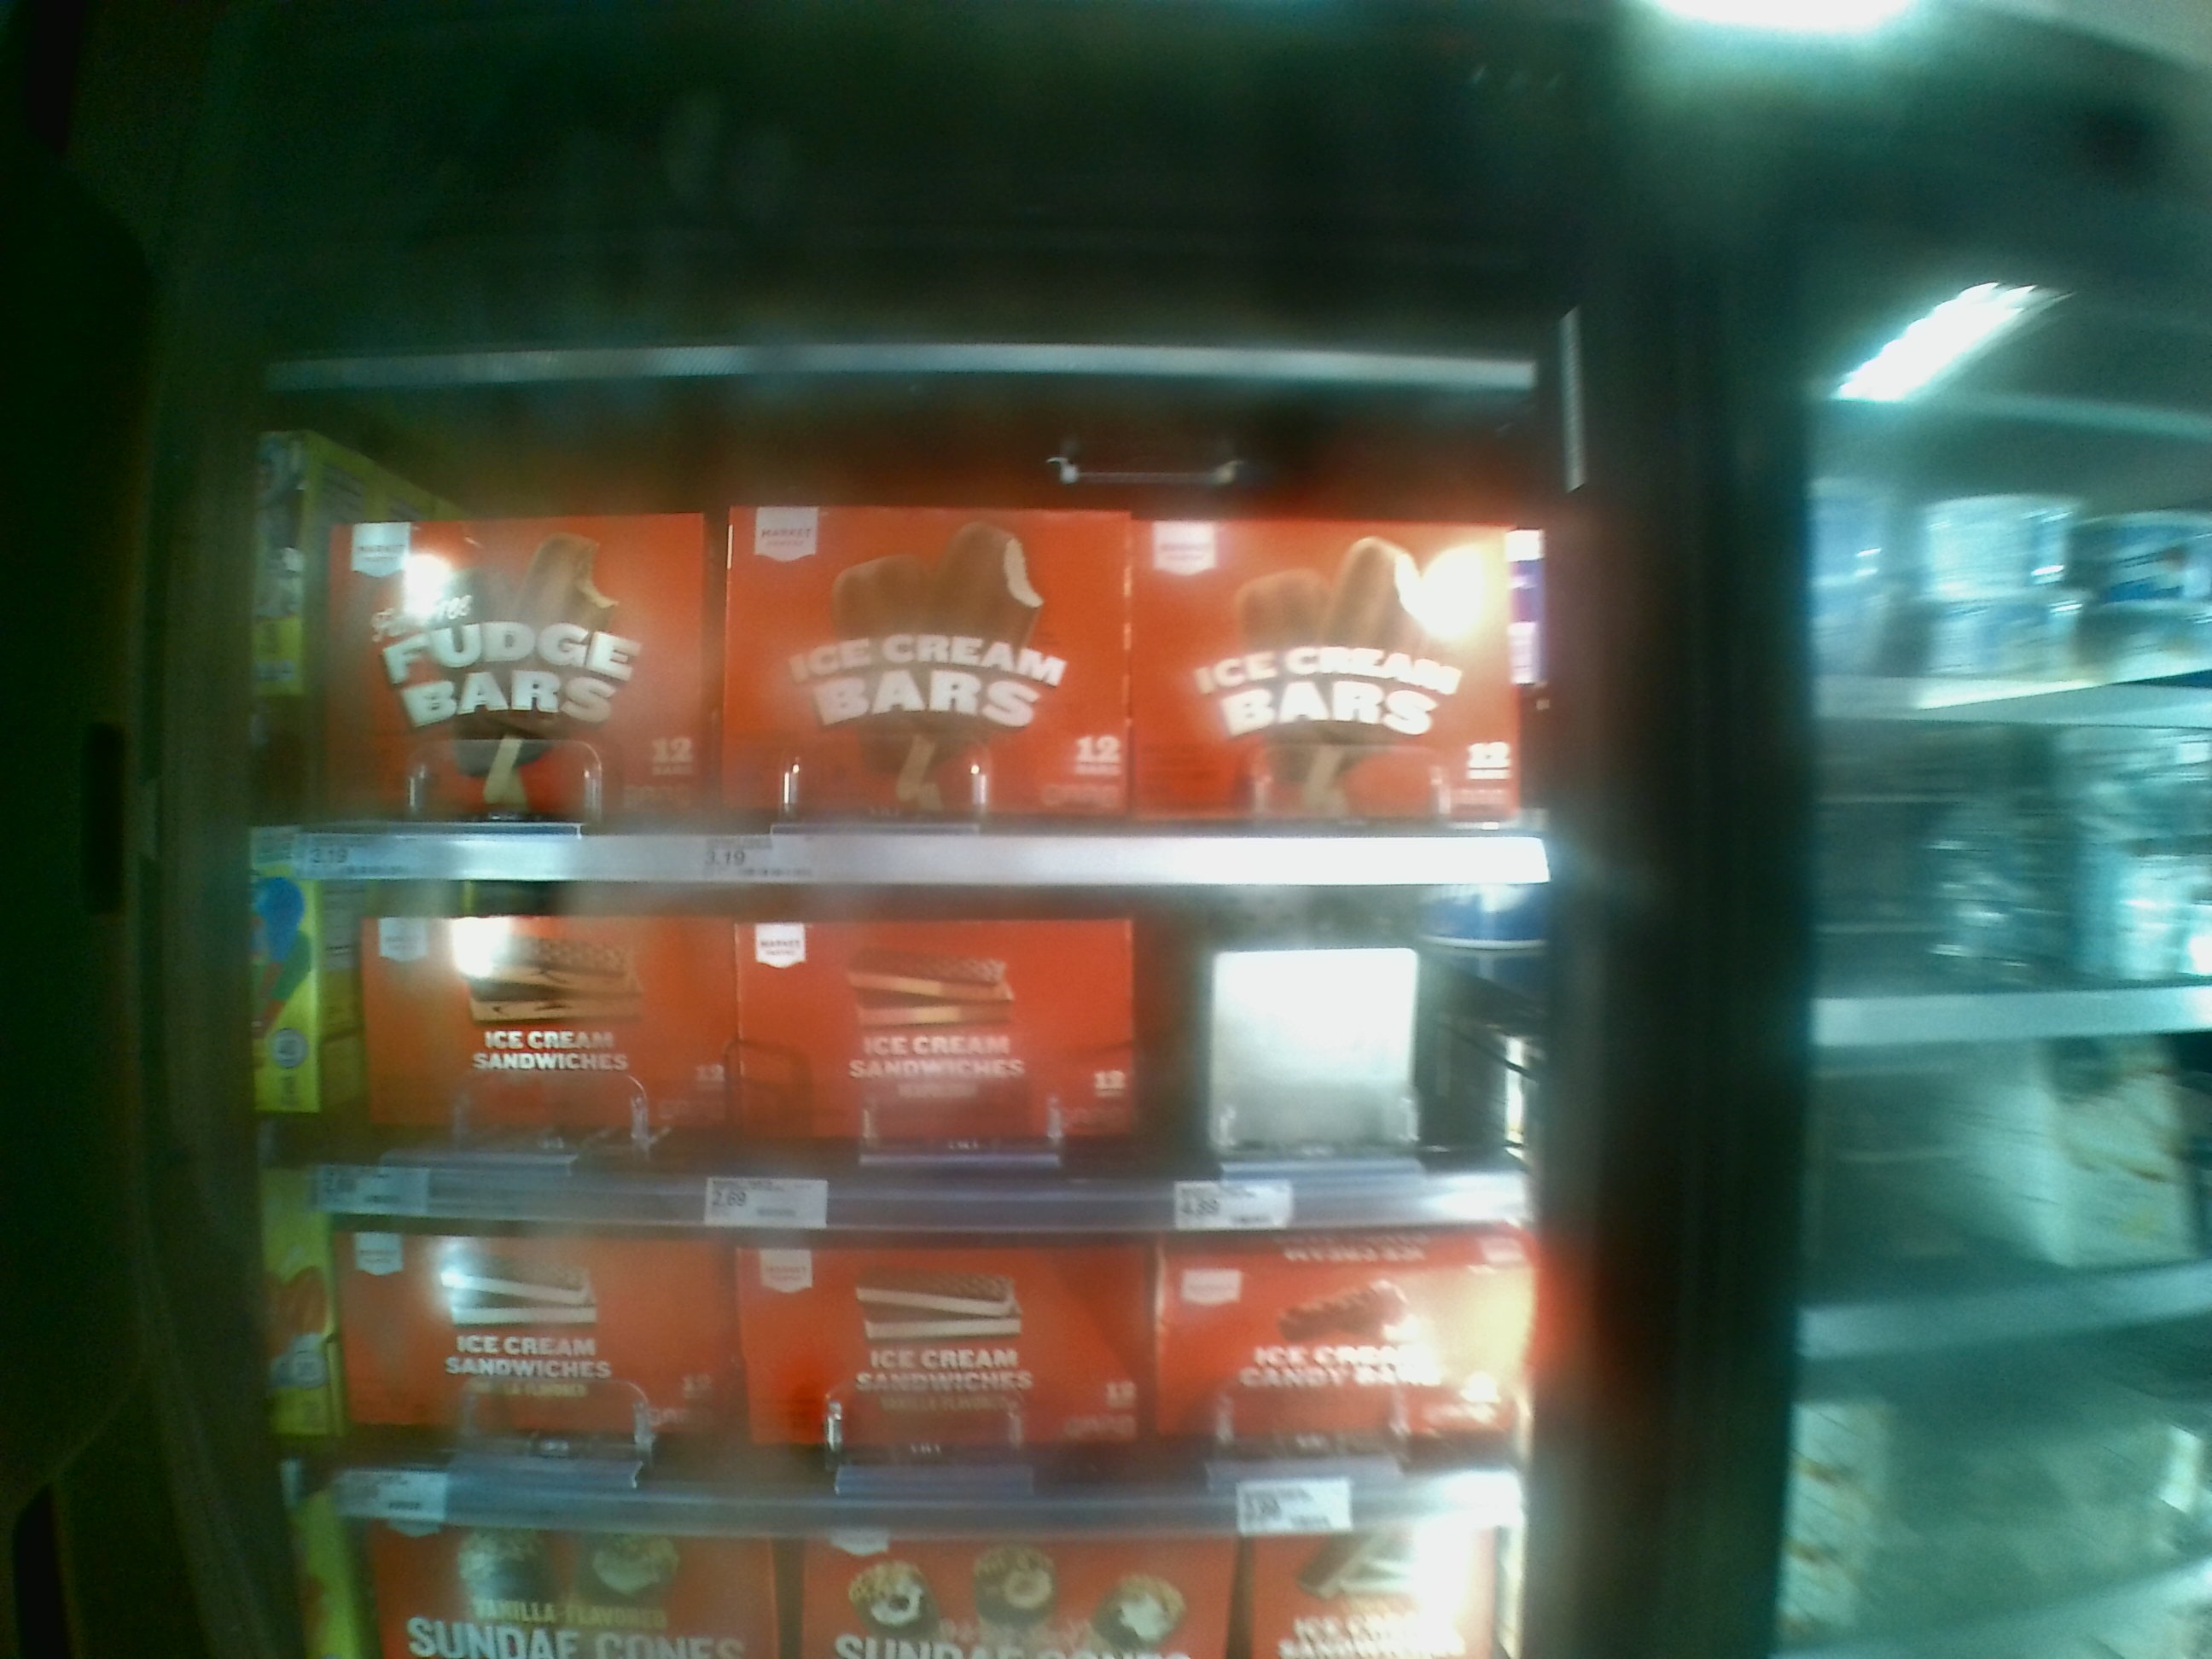shelf: (277, 392, 1529, 896), (298, 884, 1512, 1241), (322, 1236, 1514, 1535)
